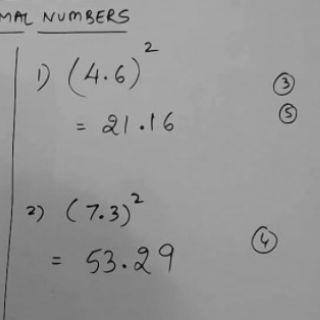.: (137, 120, 146, 133), (101, 72, 109, 82)
1: (121, 112, 131, 135), (148, 111, 157, 132)
2: (100, 112, 121, 136), (133, 245, 151, 273), (141, 37, 159, 54), (128, 189, 146, 204)
3: (102, 245, 117, 276), (107, 200, 120, 223)
4: (84, 60, 101, 86)
5: (86, 246, 101, 276)
6: (113, 61, 127, 86)
7: (86, 199, 99, 224)
9: (156, 240, 177, 273)
